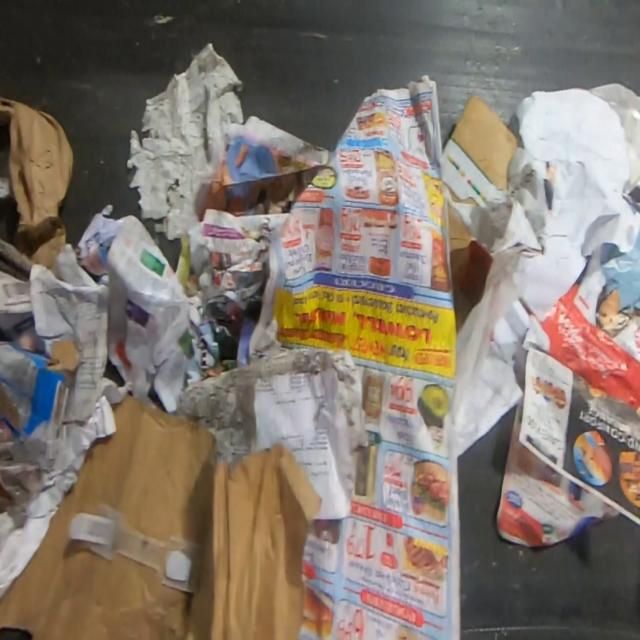cardboard: (0, 390, 323, 638), (0, 334, 85, 528), (0, 97, 74, 269), (441, 93, 521, 206), (449, 208, 494, 335)
